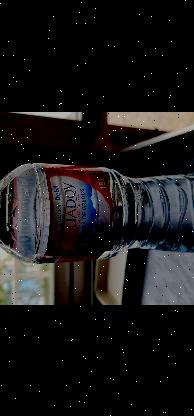Plastic Bottle: (0, 162, 194, 263)
